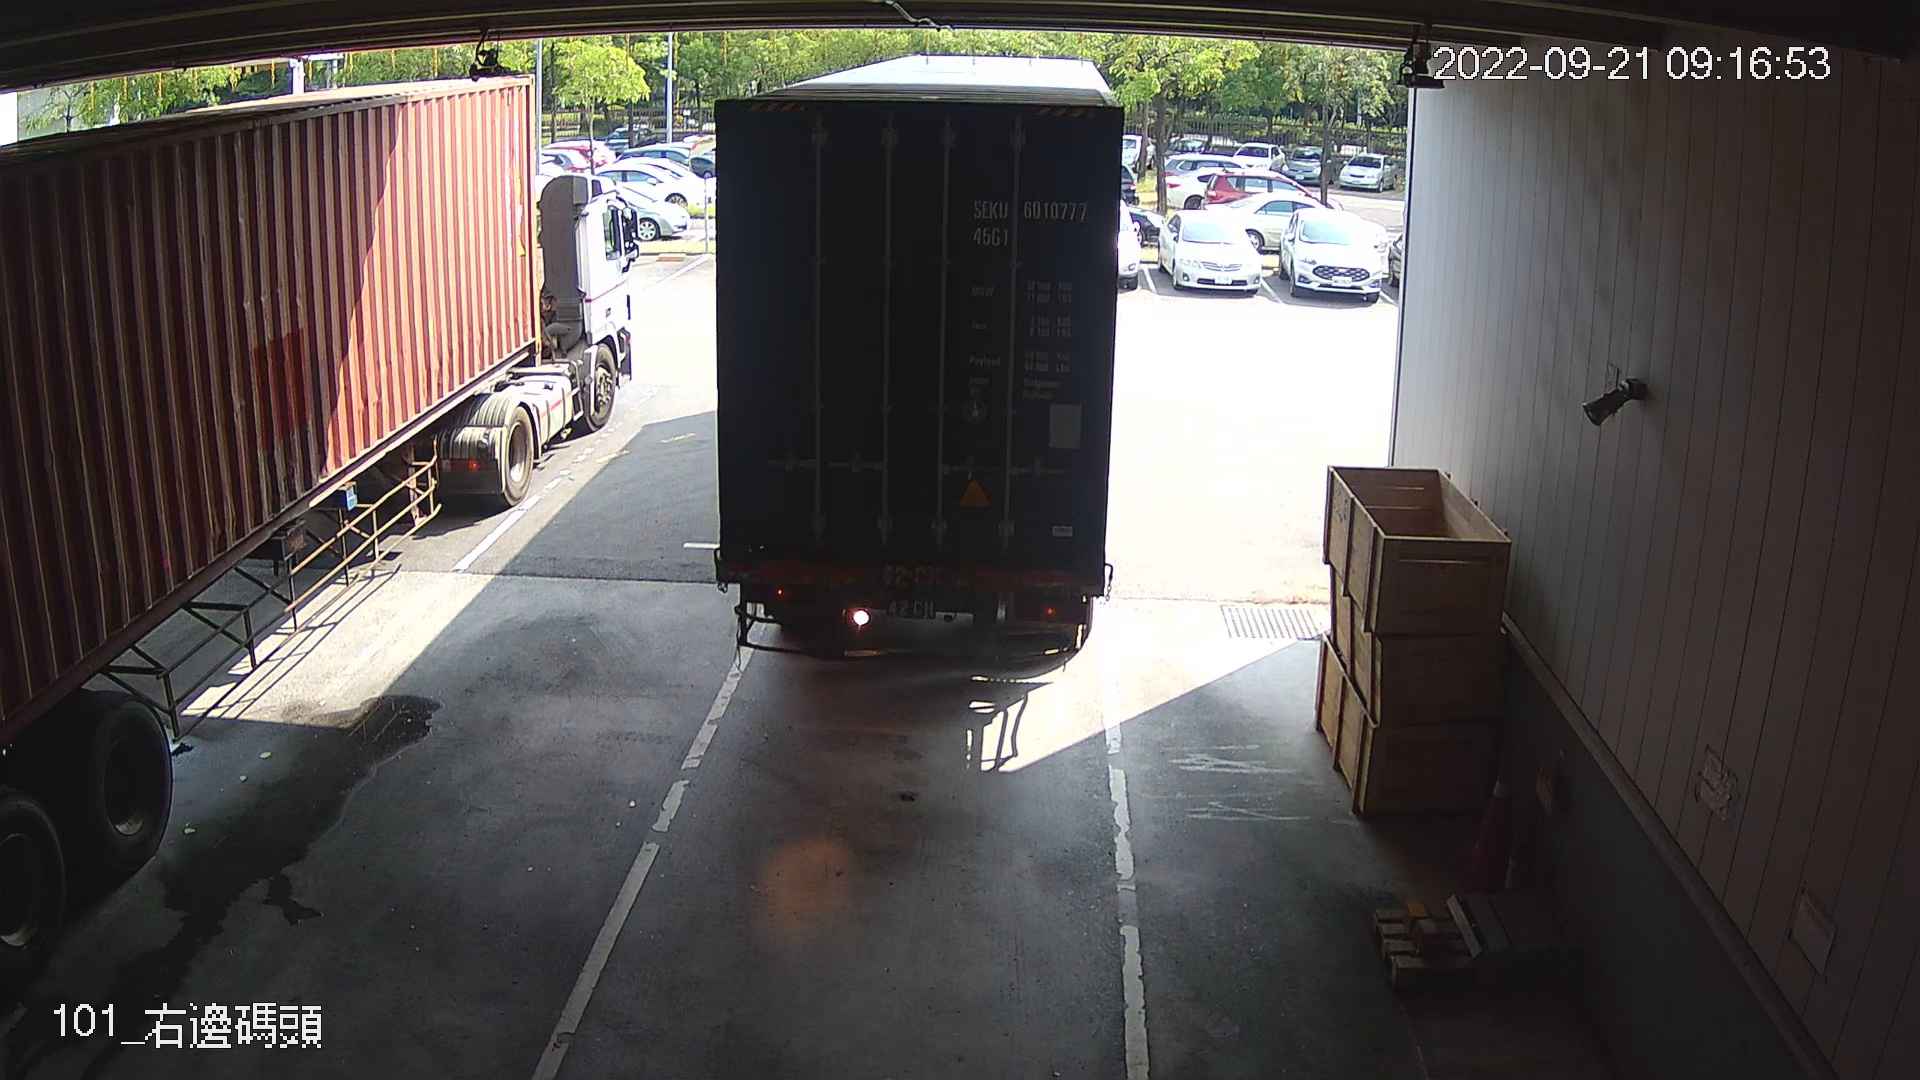container: (963, 189, 1095, 258)
